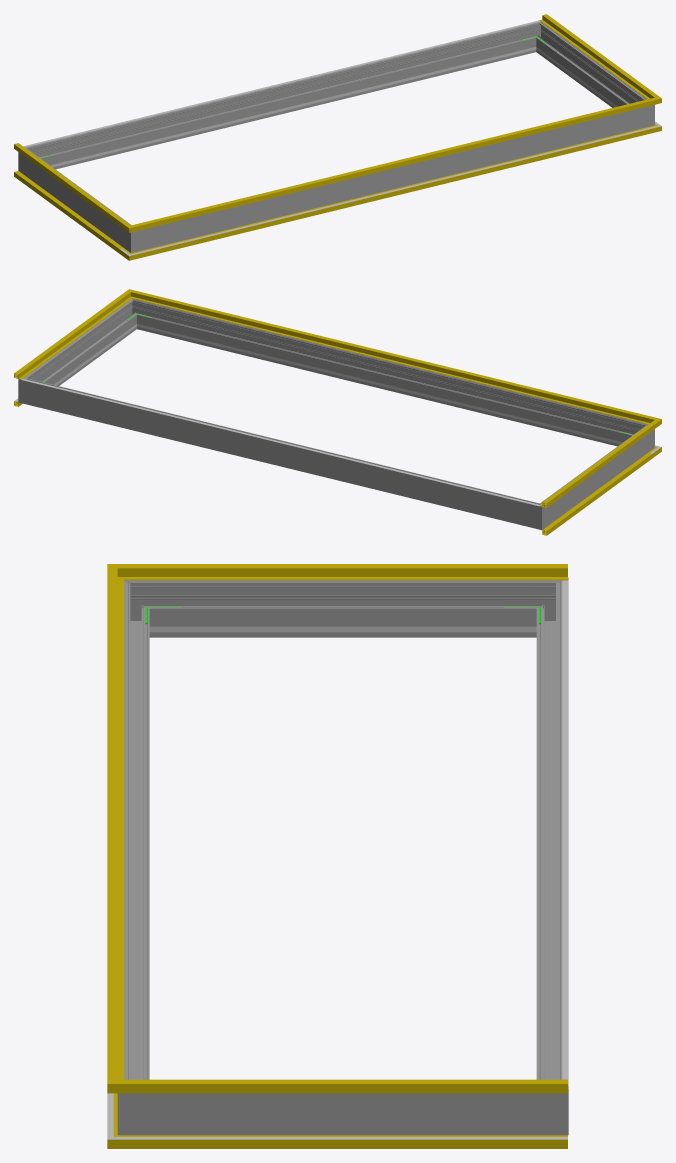
The picture shows the model from 3 angles, top to bottom: view 1: azimuth 30°, elevation 25°; view 2: azimuth 150°, elevation 25°; view 3: azimuth 270°, elevation 25°; orthographic projection. The views are drawn at different scales.
Parts seen in each view (by area): view 1: 3DGeom-276, 3DGeom-298, 3DGeom-123, 3DGeom-11, 3DGeom-297, 3DGeom-268, 3DGeom-244, 3DGeom-128, 3DGeom-220, 3DGeom-20, 3DGeom-118, 3DGeom-6 (+3 smaller); view 2: 3DGeom-298, 3DGeom-276, 3DGeom-123, 3DGeom-297, 3DGeom-268, 3DGeom-239, 3DGeom-128, 3DGeom-220, 3DGeom-118, 3DGeom-6, 3DGeom-278, 3DGeom-284 (+1 smaller); view 3: 3DGeom-268, 3DGeom-297, 3DGeom-276, 3DGeom-298, 3DGeom-123, 3DGeom-118, 3DGeom-128, 3DGeom-16, 3DGeom-220, 3DGeom-232, 3DGeom-284, 3DGeom-290 (+3 smaller).
Part boxes in pixels (bbox=[...]): 3DGeom-276: bbox=[36, 25, 533, 169]; 3DGeom-298: bbox=[147, 109, 638, 248]; 3DGeom-123: bbox=[143, 100, 645, 228]; 3DGeom-11: bbox=[143, 128, 645, 256]; 3DGeom-297: bbox=[538, 27, 642, 107]; 3DGeom-268: bbox=[28, 153, 126, 245]; 3DGeom-244: bbox=[56, 50, 520, 166]; 3DGeom-128: bbox=[539, 14, 651, 97]; 3DGeom-220: bbox=[23, 20, 540, 147]; 3DGeom-20: bbox=[144, 129, 644, 251]; 3DGeom-118: bbox=[14, 143, 123, 225]; 3DGeom-6: bbox=[14, 171, 123, 253]; 3DGeom-298: bbox=[139, 302, 636, 446]; 3DGeom-276: bbox=[35, 381, 527, 525]; 3DGeom-123: bbox=[141, 293, 644, 422]; 3DGeom-297: bbox=[30, 304, 135, 385]; 3DGeom-268: bbox=[546, 430, 645, 522]; 3DGeom-239: bbox=[153, 327, 616, 443]; 3DGeom-128: bbox=[14, 296, 126, 379]; 3DGeom-220: bbox=[21, 379, 540, 506]; 3DGeom-118: bbox=[540, 425, 652, 507]; 3DGeom-6: bbox=[541, 453, 652, 535]; 3DGeom-278: bbox=[525, 498, 551, 529]; 3DGeom-284: bbox=[18, 373, 37, 406]; 3DGeom-268: bbox=[156, 580, 530, 637]; 3DGeom-297: bbox=[156, 1093, 530, 1135]; 3DGeom-276: bbox=[536, 594, 562, 1079]; 3DGeom-298: bbox=[124, 594, 149, 1079]; 3DGeom-123: bbox=[107, 580, 123, 1076]; 3DGeom-118: bbox=[145, 564, 567, 580]; 3DGeom-128: bbox=[145, 1079, 567, 1093]; 3DGeom-16: bbox=[145, 1135, 567, 1148]; 3DGeom-220: bbox=[562, 580, 568, 1086]; 3DGeom-232: bbox=[187, 626, 499, 632]; 3DGeom-284: bbox=[530, 1072, 568, 1135]; 3DGeom-290: bbox=[117, 1072, 155, 1135].
Size of the model in its own units: 4.88 by 0.2836 by 1.83.
